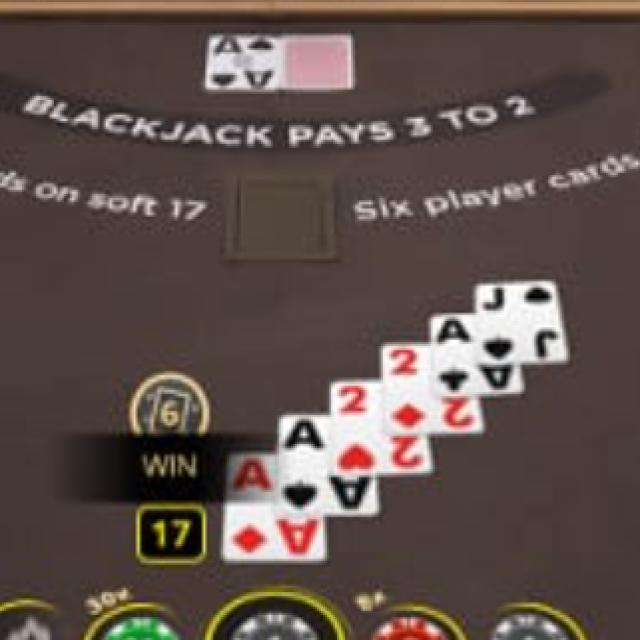Card-2: (331, 380, 433, 472), (383, 343, 483, 433)
Card-A: (223, 451, 327, 563), (280, 414, 379, 515), (432, 314, 525, 395), (206, 33, 281, 90)
Card-J: (477, 281, 568, 360)
